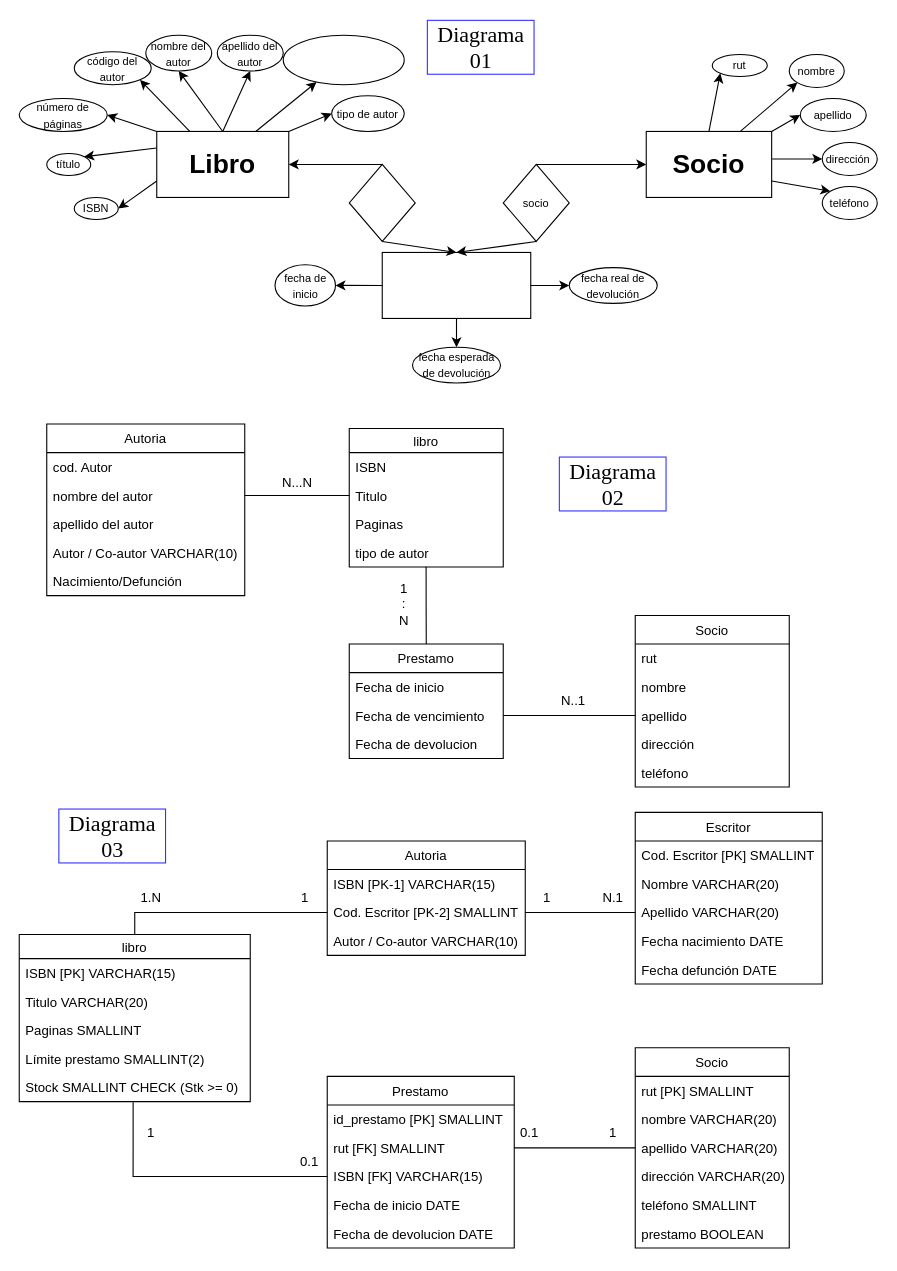
The diagram is 897 pixels wide and 1271 high, and some of its shapes have lost their labels. Each missing label, with the centre of its shape:
"Días en prestamo" belongs at point 381,202.
"fecha de nacimiento y muerte del autor" belongs at point 343,59.
"Préstamo" belongs at point 456,284.
